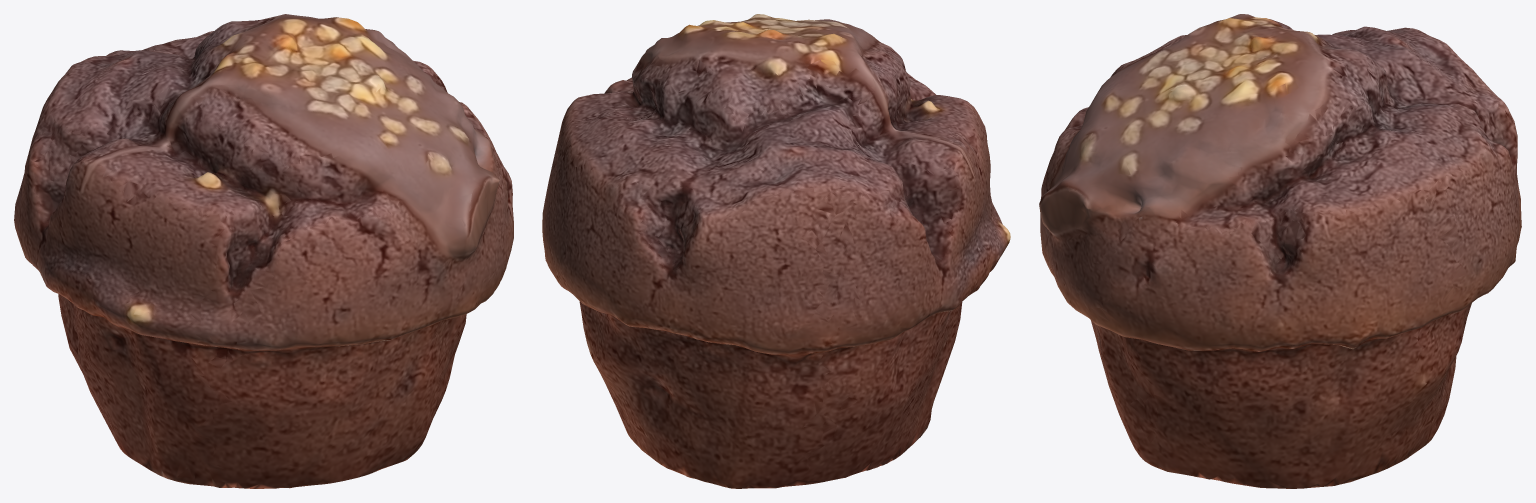
File: muffin_11130.obj
The picture shows the model from 3 angles, left to right: view 1: azimuth 30°, elevation 25°; view 2: azimuth 150°, elevation 25°; view 3: azimuth 270°, elevation 25°; orthographic projection. The views are drawn at different scales.
Size of the model in its own units: 14.21 by 13.01 by 14.4.
Materials: 1 (1 with a texture image).
